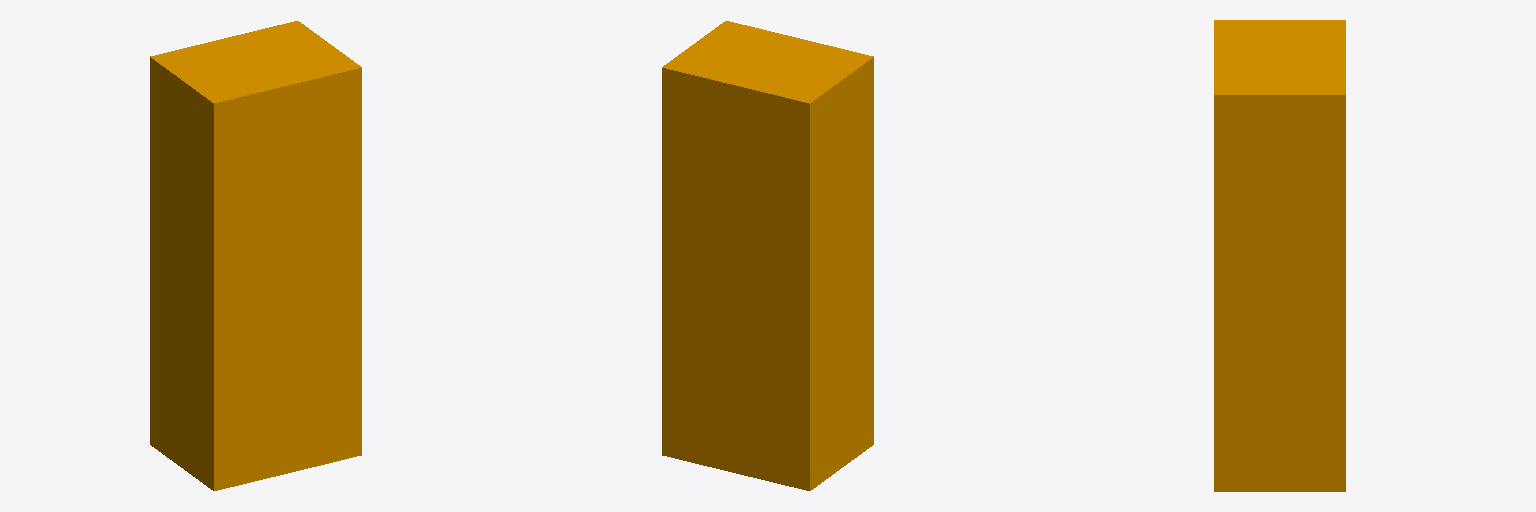
robot.urdf — red_box:
<?xml version="1.0"?>
<robot name="red_box">

<link name="base_link">
  <collision>
    <origin xyz="0 0 0.02" rpy="0 0 0"/>
    <geometry>
      <box size="0.1 0.075 0.25" />
    </geometry>
  </collision>

  <visual>
    <origin xyz="0 0 0.02" rpy="0 0 0"/>
    <geometry>
      <box size="0.1 0.075 0.25" />
    </geometry>
  </visual>

  <inertial>
    <origin xyz="0 0 0.02" rpy="0 0 0" />
    <mass value="0.05" />
    <inertia
      ixx="0.001" ixy="0.0"  ixz="0.0"
      iyy="0.001" iyz="0.0"
      izz="0.001" />
  </inertial>
  </link>

<gazebo reference="base_link">
  <material>Gazebo/Red</material>
    <mu1>5</mu1>
    <mu2>5</mu2>
</gazebo>

</robot>

--- Render facts (derived) ---
3 views of the same robot in one strip: view 1: azimuth 30°, elevation 25°; view 2: azimuth 150°, elevation 25°; view 3: azimuth 270°, elevation 25° (orthographic).
Robot: red_box — 1 links, 0 joints (none); root link base_link; default pose: all joints at 0.
Links seen in each view (by area): view 1: base_link; view 2: base_link; view 3: base_link.
Boxes of the visible links, bbox=[...] form: base_link: bbox=[150, 21, 361, 490]; base_link: bbox=[662, 21, 873, 490]; base_link: bbox=[1214, 20, 1345, 491].
Size in the robot's own frame: 0.1 by 0.075 by 0.25 metres.
Geometry: primitives only (box / cylinder / sphere), no mesh files.
